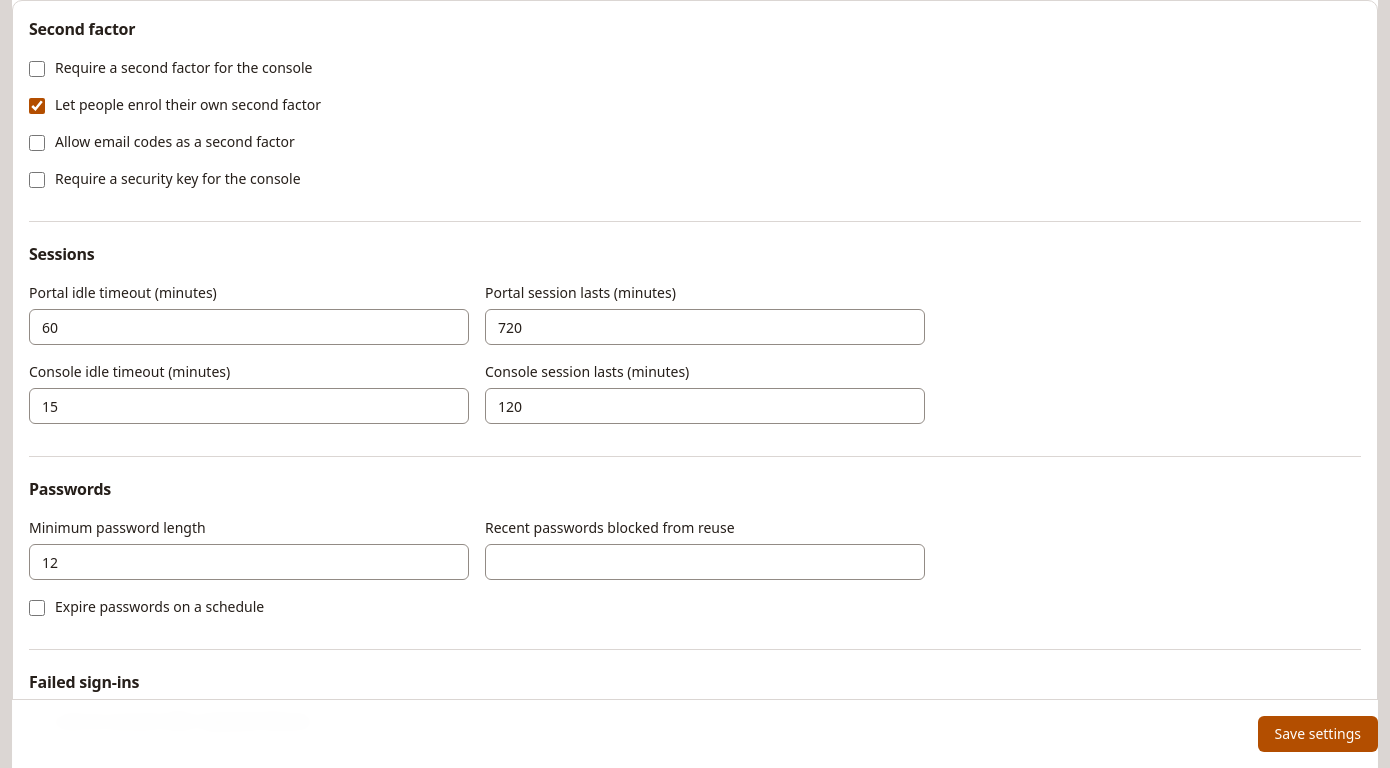
SettingsSignInTab and session lifetimes › warns that shortening reaches sessions already signed in, only while shortening
The image size is (1390, 768).
Expected: the text "apply to current sessions" is not shown
Replace the text in the number field labelled "Console session lasts (minutes)" with "60" at (705, 406), box [485,388,925,424]
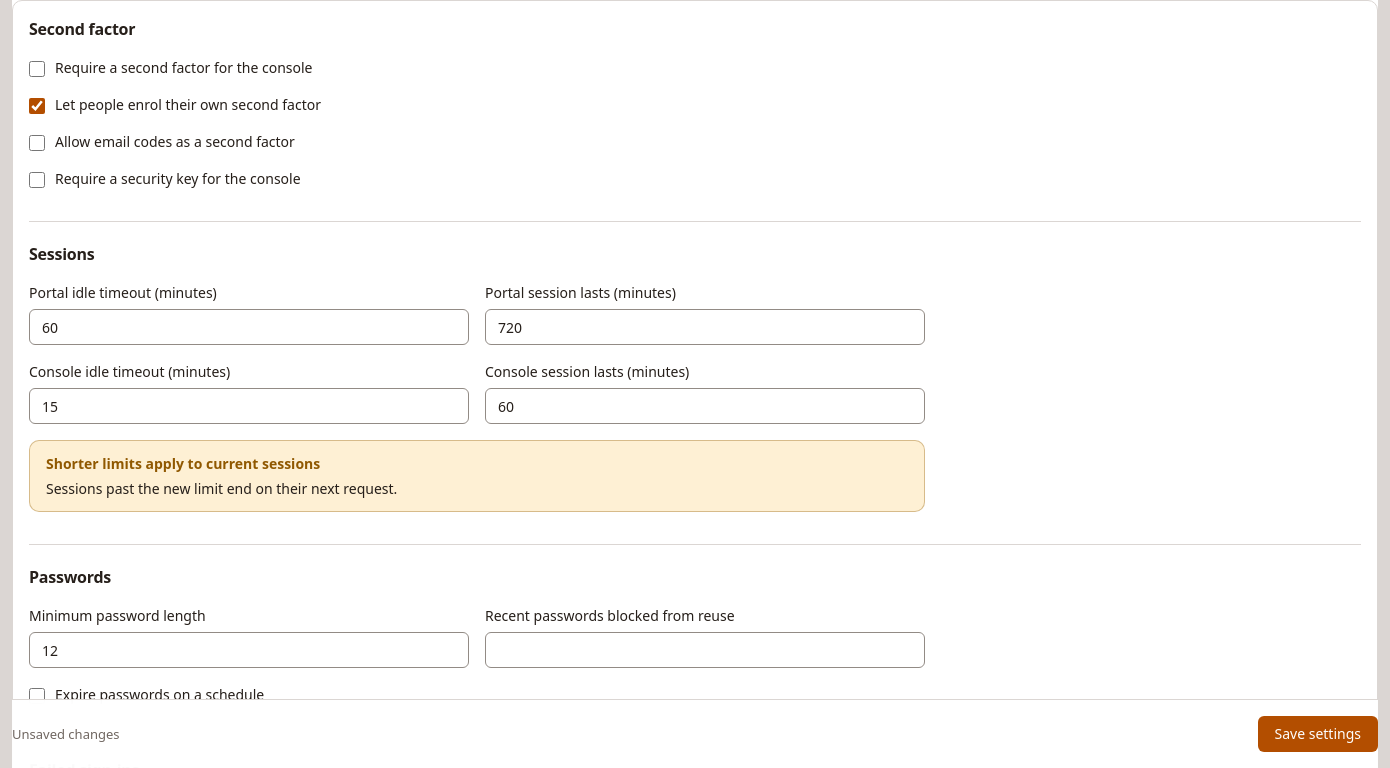
Expected: the text "Shorter limits apply to current sessions" is shown, [46,454,320,473]
Replace the text in the number field labelled "Console session lasts (minutes)" with "240" at (705, 406), box [485,388,925,424]
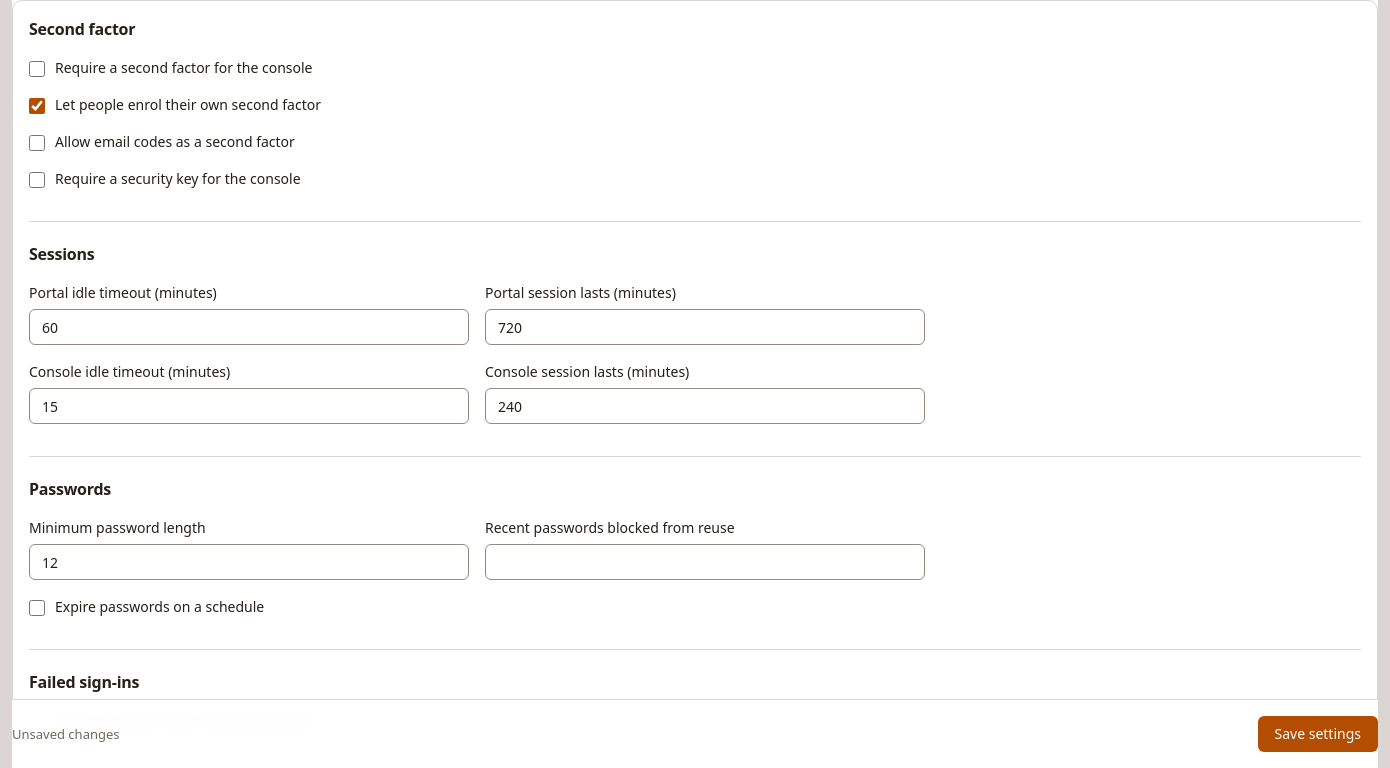
Expected: the text "apply to current sessions" is gone
